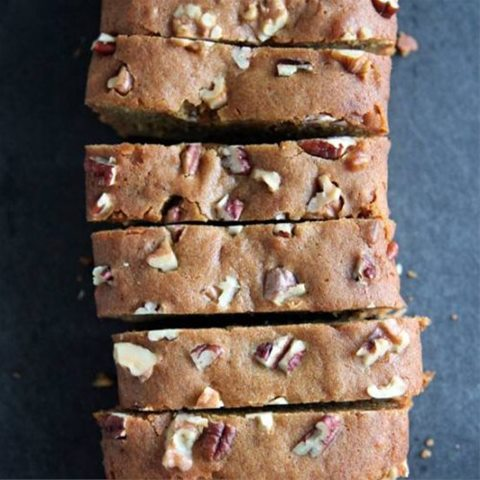slice of bread: (98, 8, 405, 480)
